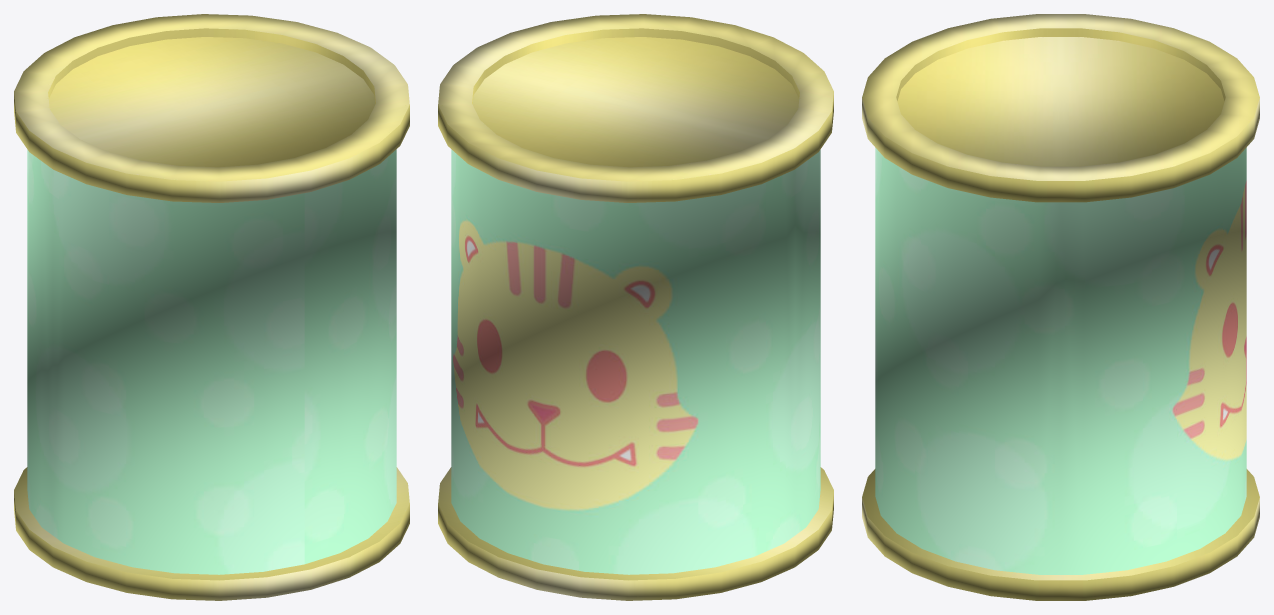
The model's file is Jar1.glb.
The picture shows the model from 3 angles, left to right: view 1: azimuth 30°, elevation 25°; view 2: azimuth 150°, elevation 25°; view 3: azimuth 270°, elevation 25°; orthographic projection.
Parts seen in each view (by area): view 1: jar; view 2: jar; view 3: jar.
Part boxes in pixels (x1,y1,x2,y2): jar: [14, 14, 409, 600]; jar: [438, 14, 833, 600]; jar: [862, 14, 1259, 600].
Size of the model in its own units: 1.33 by 1.56 by 1.34.
Materials: 1 (1 with a texture image).
